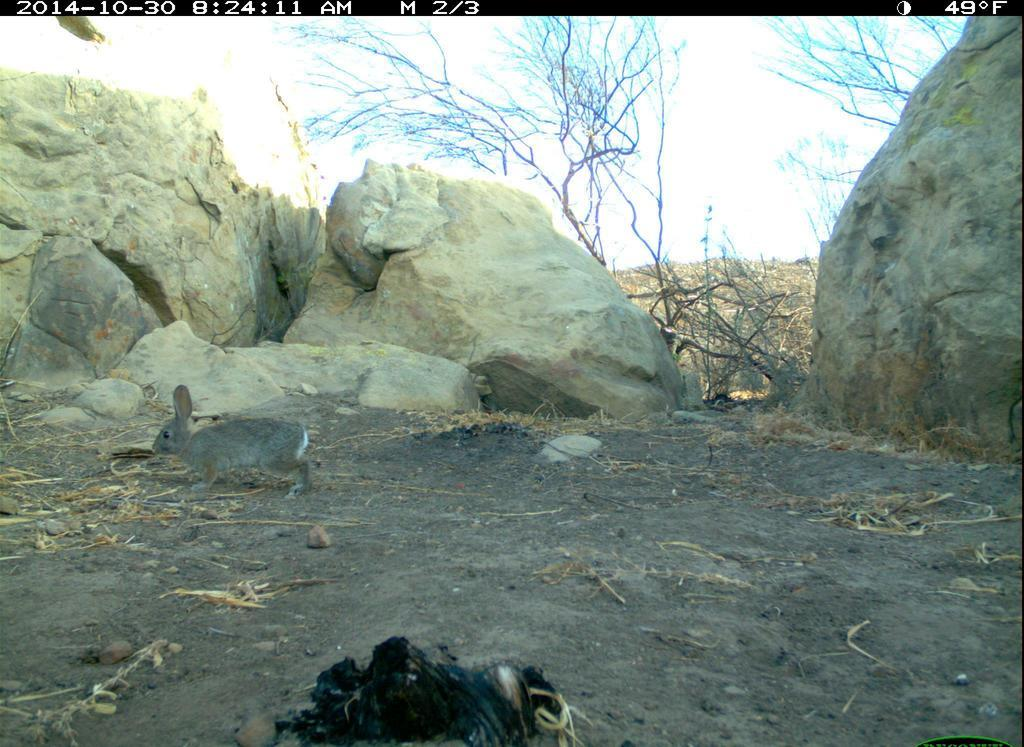rabbit: (146, 380, 316, 507)
